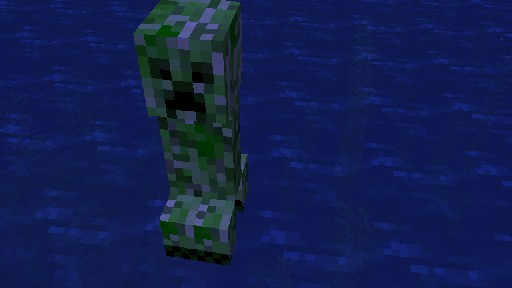creeper: (132, 0, 247, 265)
